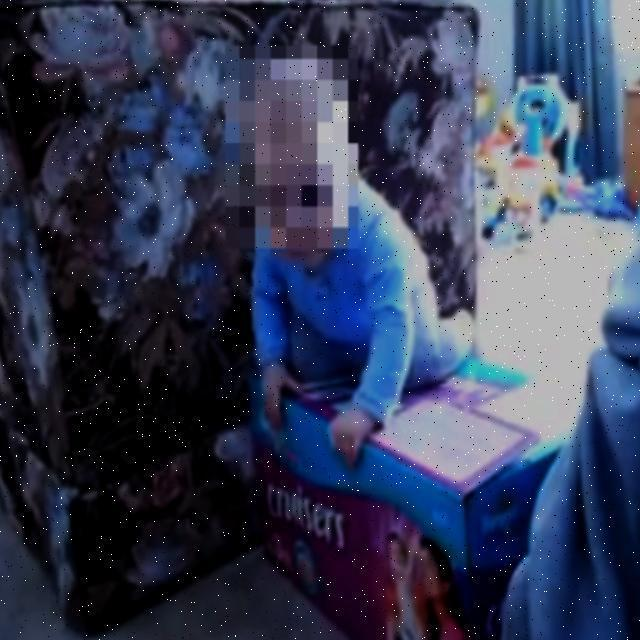child: (232, 57, 490, 472)
